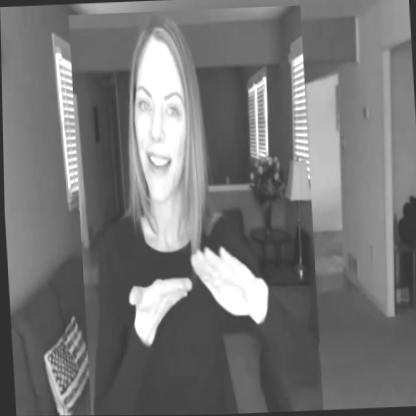NiceToMeetYou: (68, 5, 321, 416)
